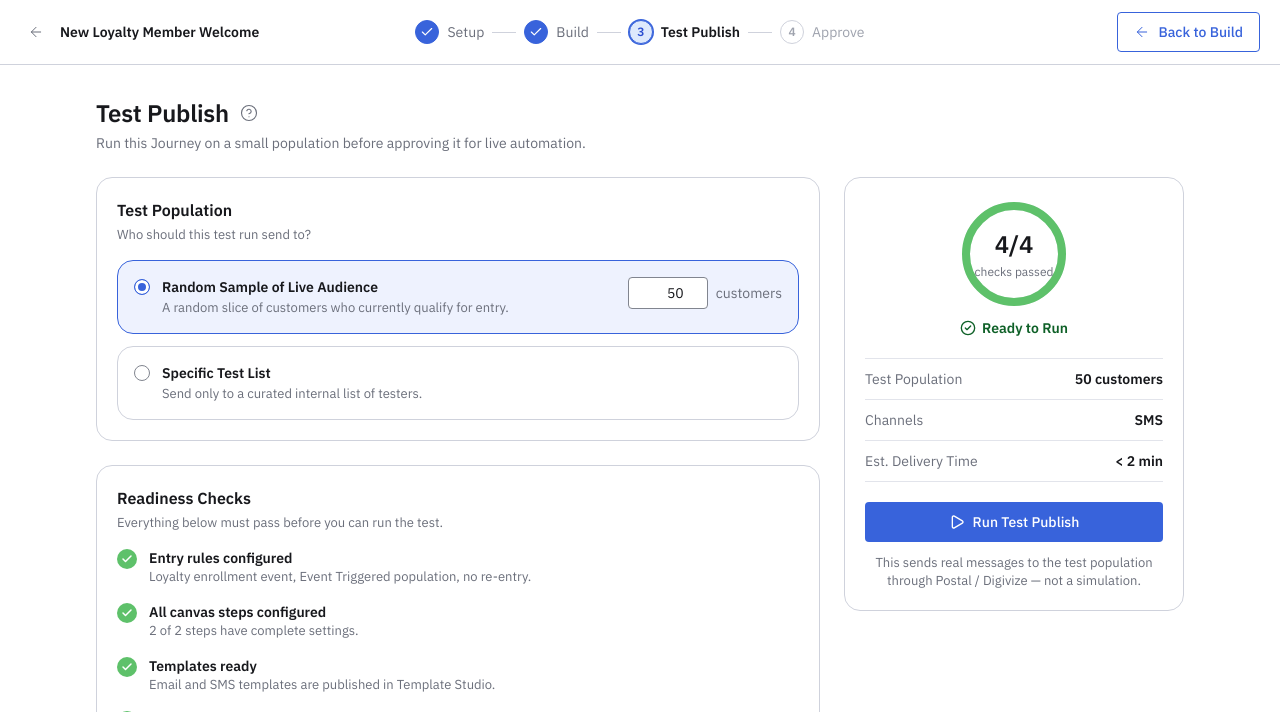
Test: running a test sends a real request and shows the results, including a partial-delivery case
Click the button "Run Test Publish" at (1014, 522), box [865,502,1163,542]
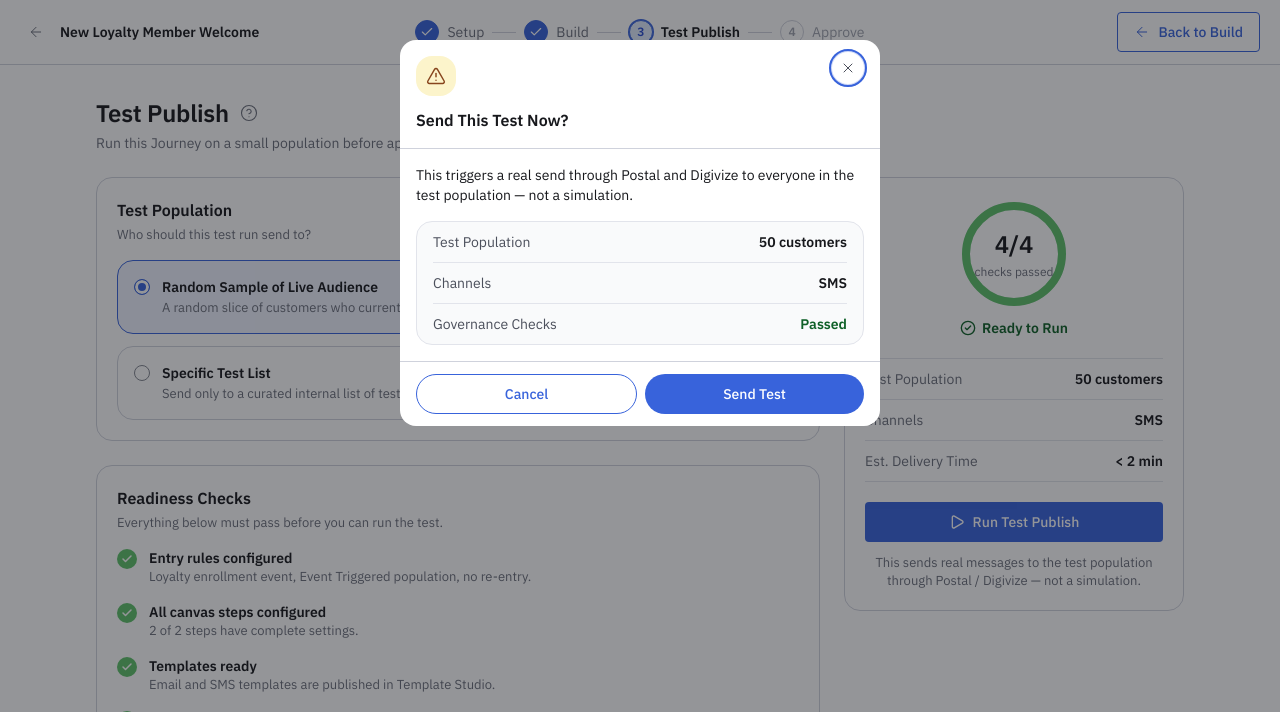
Click the button "Send Test" at (754, 394), box [645,374,864,414]
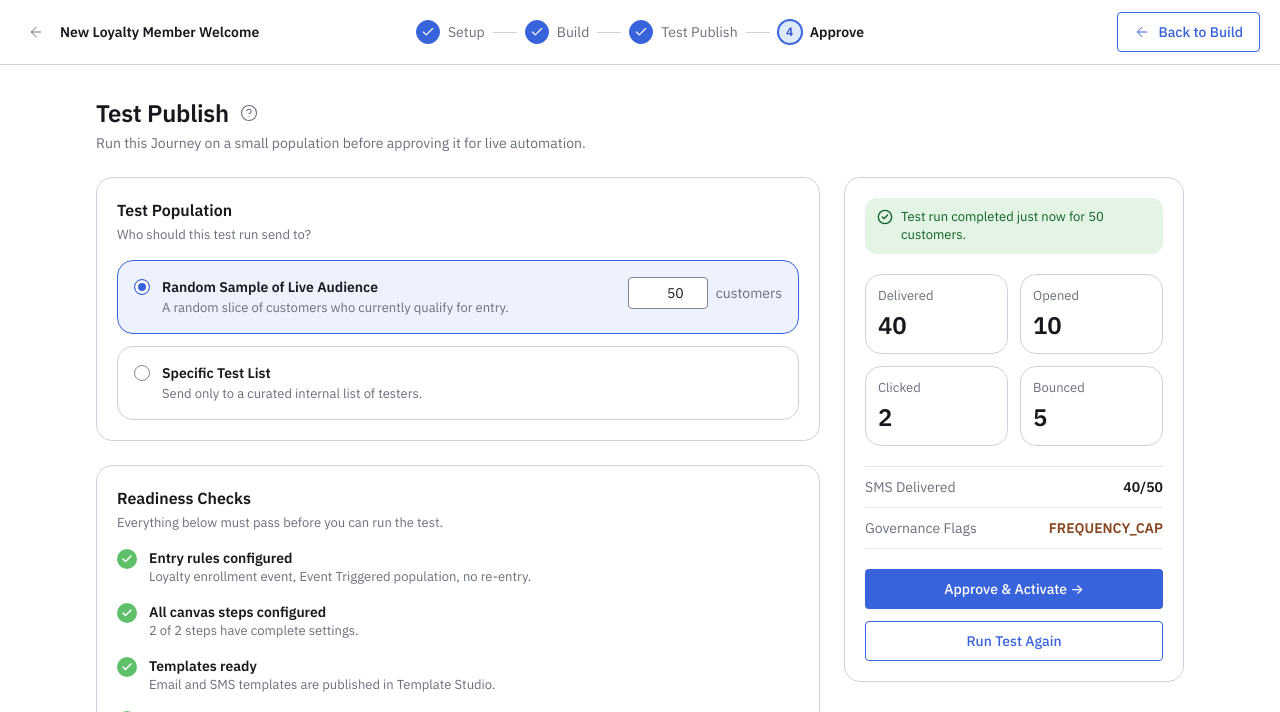
expect the button "Approve & Activate →" is shown: met, box [865,569,1163,609]
expect the text "40" is shown: met, box [878,309,906,341]
expect the text "FREQUENCY_CAP" is shown: met, box [1049,519,1163,537]
